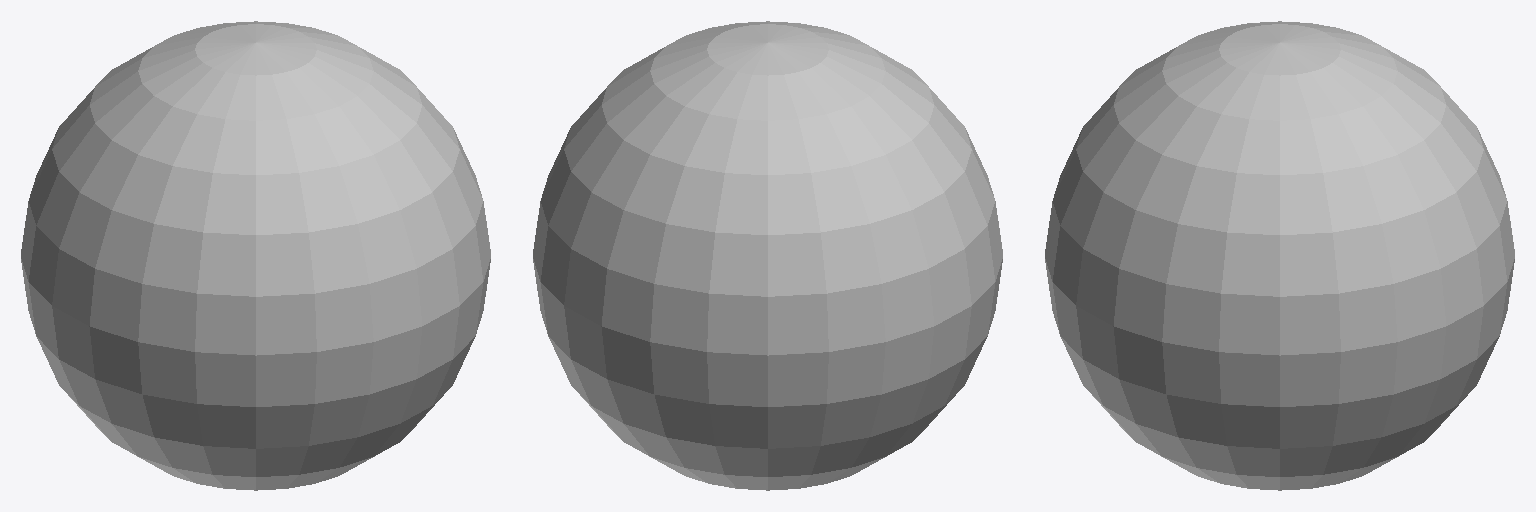
File: sculptris.obj
3 views of the same model, side by side, from view 1: azimuth 30°, elevation 25°; view 2: azimuth 150°, elevation 25°; view 3: azimuth 270°, elevation 25° (orthographic).
Visible parts, largest first — view 1: sculptris.obj; view 2: sculptris.obj; view 3: sculptris.obj.
Part boxes in pixels (left/top/right/bottom): sculptris.obj: left=21, top=21, right=490, bottom=490; sculptris.obj: left=533, top=21, right=1002, bottom=490; sculptris.obj: left=1045, top=21, right=1514, bottom=490.
Bounding box in the file's own units: 1 × 1 × 1.